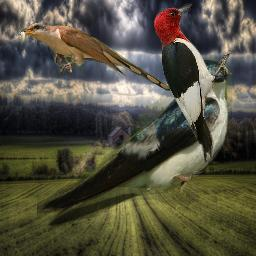Cuckoo: (16, 22, 172, 91)
Swallow: (37, 58, 232, 230)
Woodpecker: (152, 2, 233, 162)
